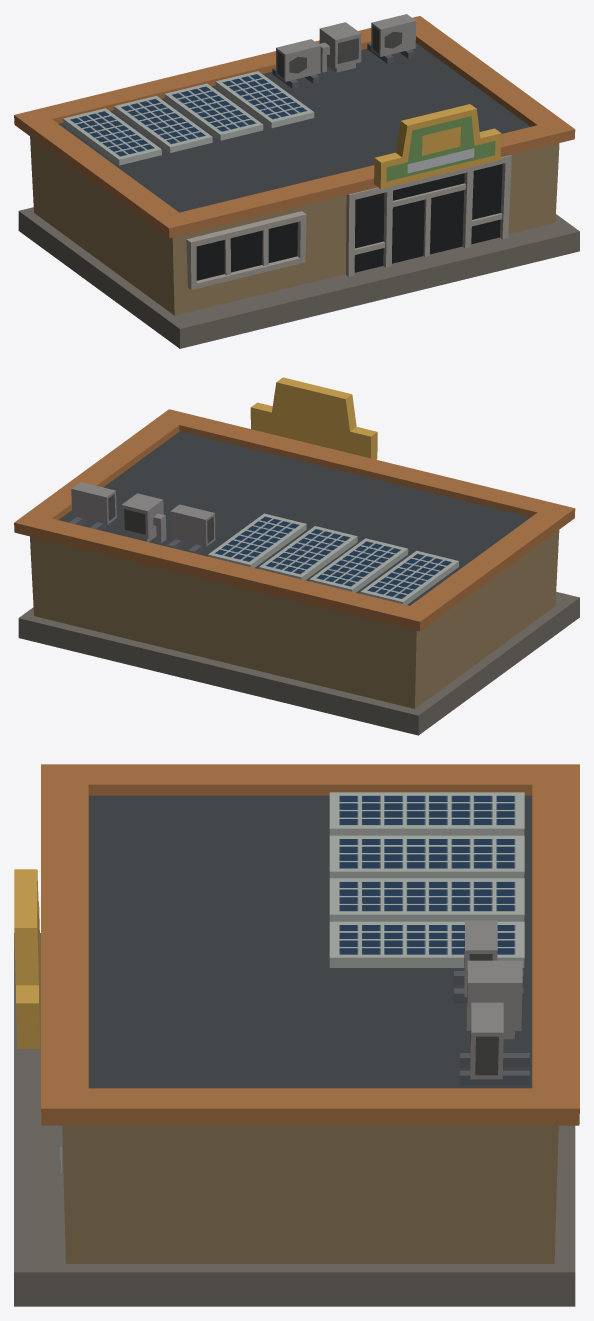
Rendered from Scene-Architecture_A-Architecture_A.glb.
3 renders of one model, top to bottom at view 1: azimuth 30°, elevation 25°; view 2: azimuth 150°, elevation 25°; view 3: azimuth 270°, elevation 25°, orthographic. The views are drawn at different scales.
Visible parts, largest first — view 1: Scene-Architecture_A-Architecture_A; view 2: Scene-Architecture_A-Architecture_A; view 3: Scene-Architecture_A-Architecture_A.
Boxes of the visible parts, x1,y1,x2,y2 form: Scene-Architecture_A-Architecture_A: (14, 14, 579, 348); Scene-Architecture_A-Architecture_A: (14, 377, 579, 735); Scene-Architecture_A-Architecture_A: (14, 764, 579, 1306).
Size of the model in its own units: 5.87 by 2.31 by 4.08.
1 material, 1 textured.
